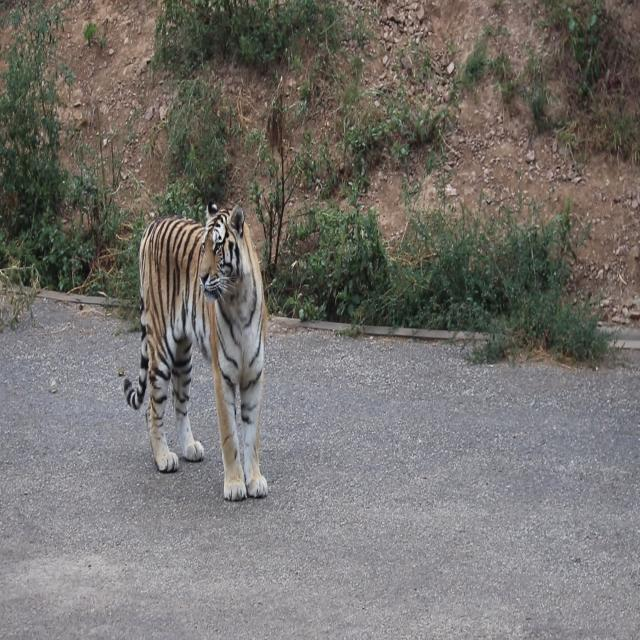Tiger: (120, 197, 306, 528)
